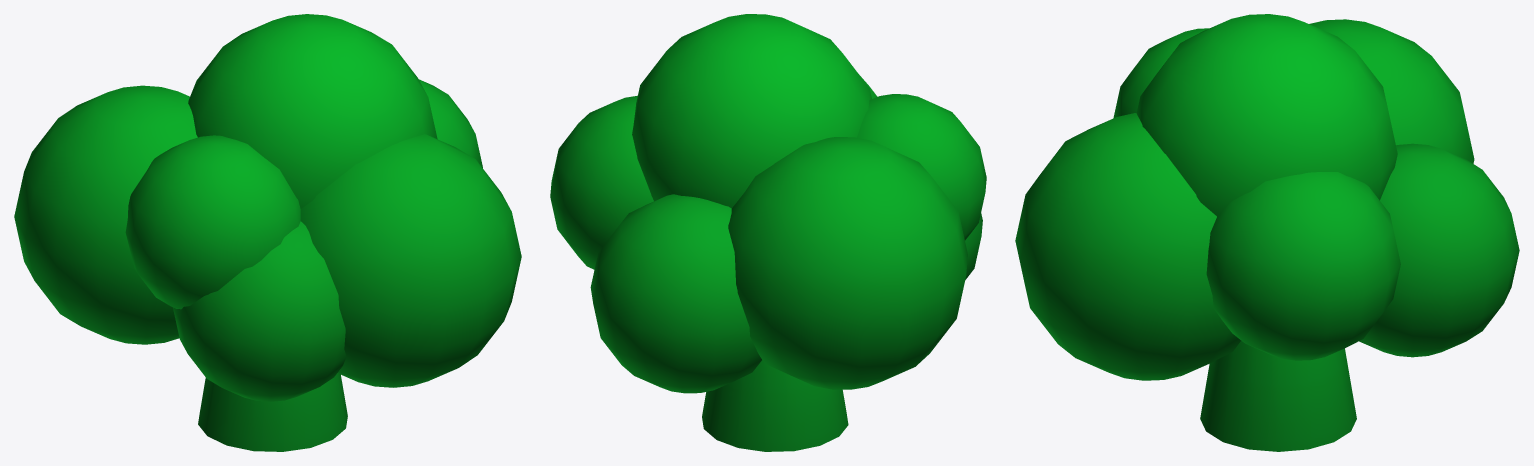
File: Farm_Crop_Broccoli_01.glb
3 views of the same model, side by side, from view 1: azimuth 30°, elevation 25°; view 2: azimuth 150°, elevation 25°; view 3: azimuth 270°, elevation 25° (orthographic). The views are drawn at different scales.
Visible parts, largest first — view 1: Farm_Crop_Broccoli_01; view 2: Farm_Crop_Broccoli_01; view 3: Farm_Crop_Broccoli_01.
Boxes of the visible parts, box(x1,y1,x2,y2) form: Farm_Crop_Broccoli_01: box(14, 14, 521, 451); Farm_Crop_Broccoli_01: box(550, 14, 986, 451); Farm_Crop_Broccoli_01: box(1015, 14, 1519, 451).
Size of the model in its own units: 0.7691 by 0.6897 by 0.7746.
Materials: 1 (1 with a texture image).
